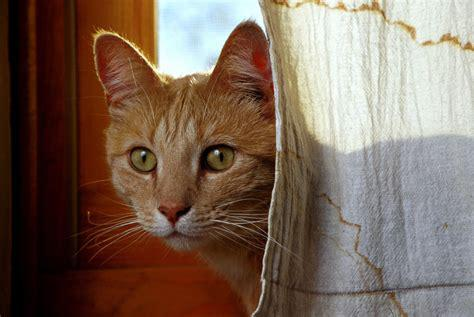cat: (94, 21, 275, 313)
